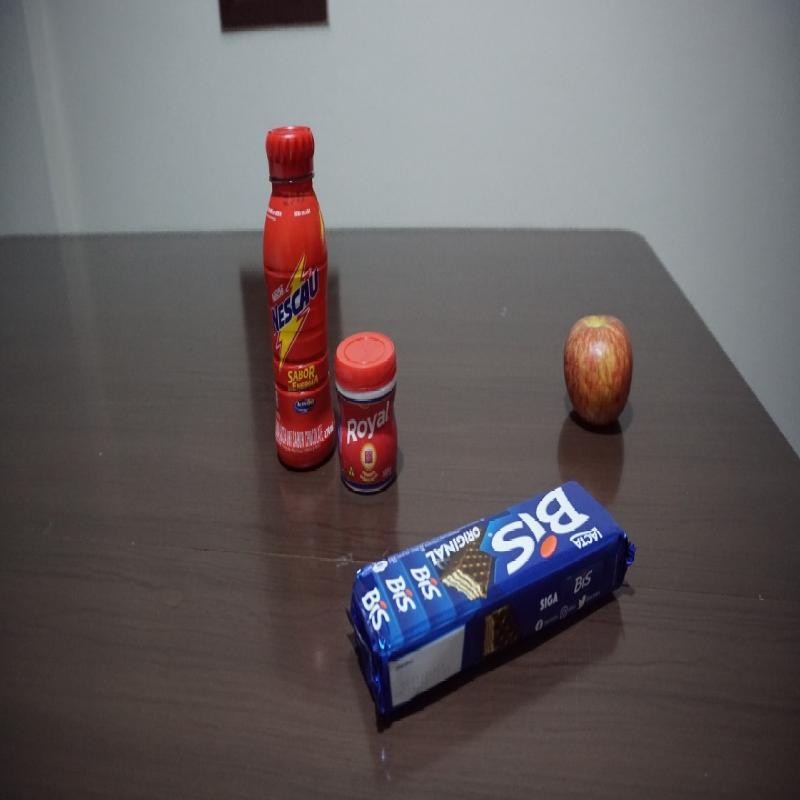Apple: (564, 313, 634, 430)
Chocolate Milk: (262, 125, 336, 472)
Yeast: (335, 333, 399, 494)
